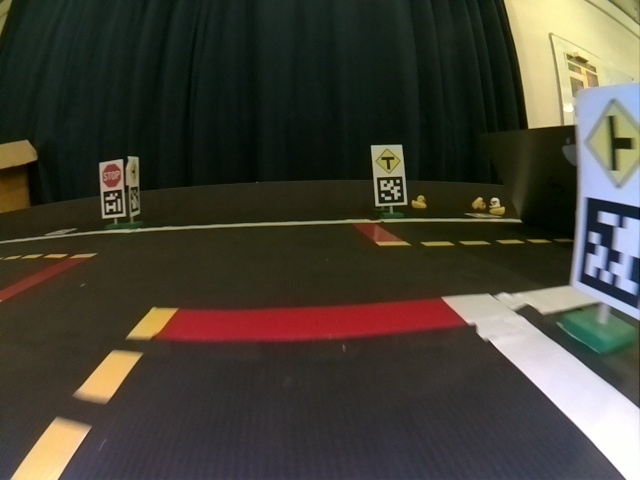Duckie: (490, 199, 502, 214), (413, 197, 425, 209), (474, 198, 484, 208)
Intersection sign: (585, 98, 640, 189), (372, 146, 404, 172), (129, 161, 139, 183)
QR code: (580, 197, 639, 306), (376, 177, 404, 204), (103, 190, 123, 215), (130, 188, 140, 212)
Stop sign: (102, 163, 122, 187)
